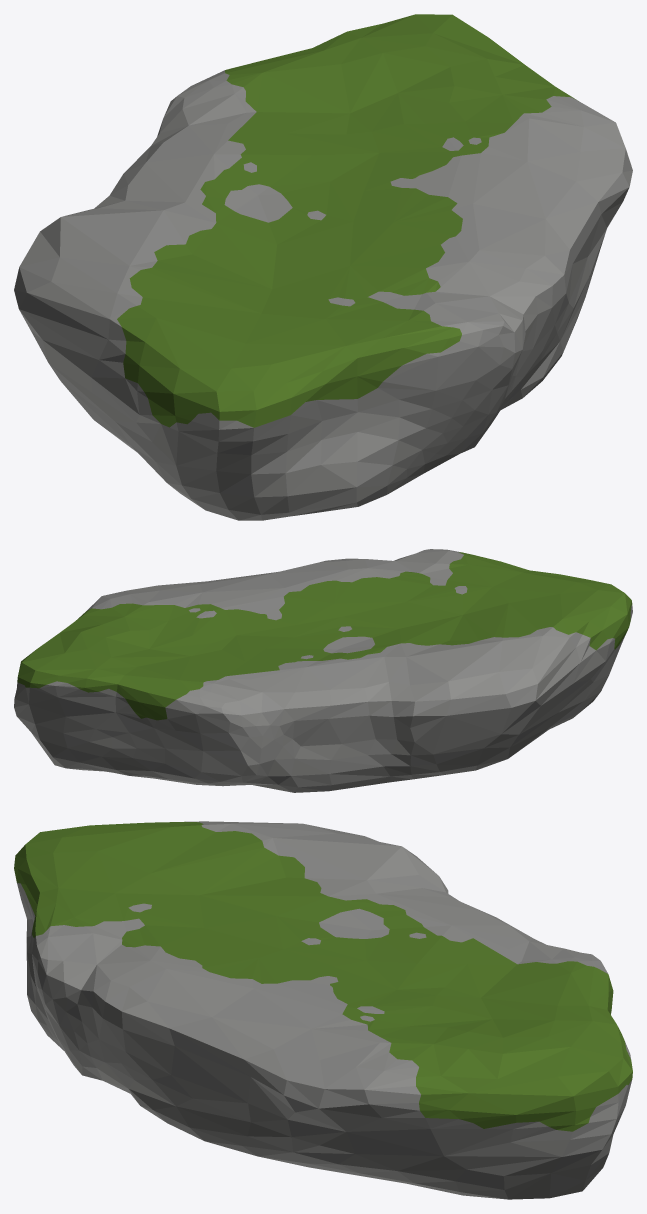
Rendered from Cavern_FloorGrass_Wide_AngleCorner-01.fbx.
3 views of the same model, one above another, from view 1: azimuth 30°, elevation 25°; view 2: azimuth 150°, elevation 25°; view 3: azimuth 270°, elevation 25° (orthographic). The views are drawn at different scales.
Parts seen in each view (by area): view 1: Cavern_FloorGrass_Wide_AngleCorner-01; view 2: Cavern_FloorGrass_Wide_AngleCorner-01; view 3: Cavern_FloorGrass_Wide_AngleCorner-01.
Boxes of the visible parts, x1,y1,x2,y2 form: Cavern_FloorGrass_Wide_AngleCorner-01: (14, 14, 632, 520); Cavern_FloorGrass_Wide_AngleCorner-01: (14, 549, 632, 792); Cavern_FloorGrass_Wide_AngleCorner-01: (14, 821, 632, 1199).
Size of the model in its own units: 1853 by 508 by 1836.
Materials: 1 (1 with a texture image).
